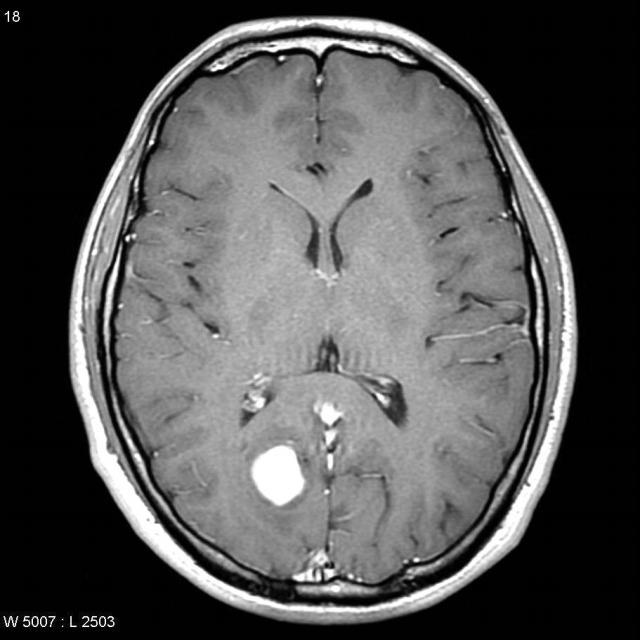Tumor: (240, 433, 316, 520)
